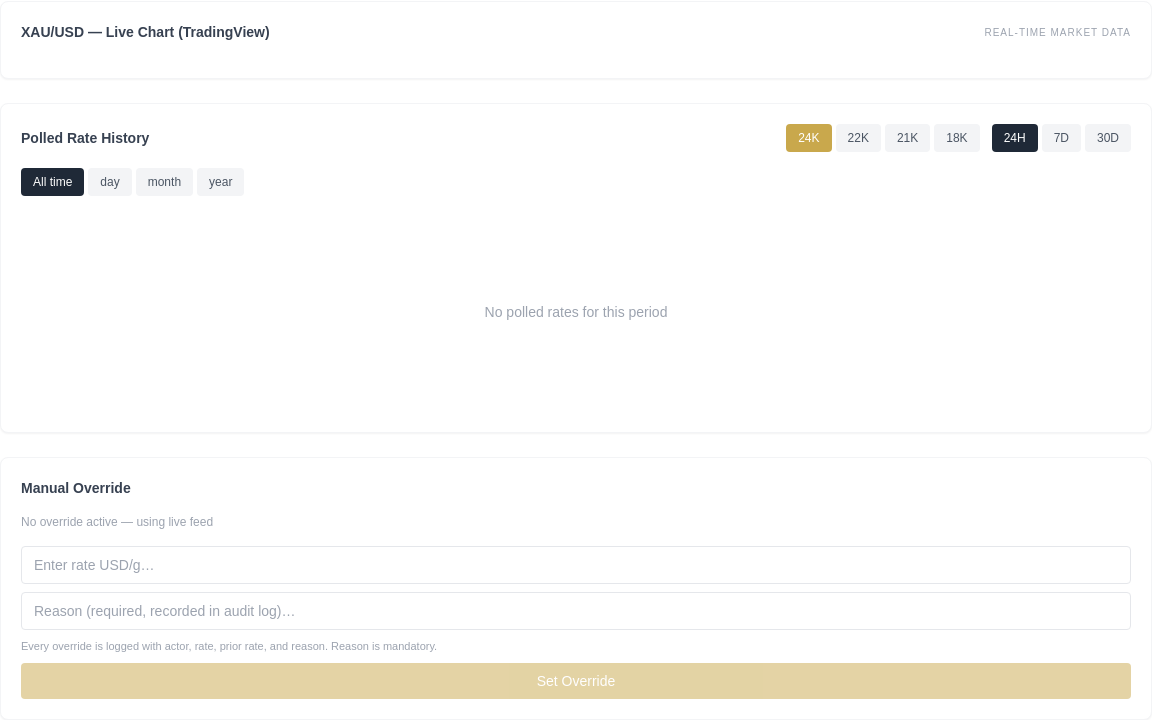
gold price — the override still does what it did › needs a rate and a reason of three characters before it can be set
The image size is (1152, 720).
(page scrolled)
Type "150.5" into the number field named "Override rate (USD/g)" at (576, 565), box [21,546,1131,584]
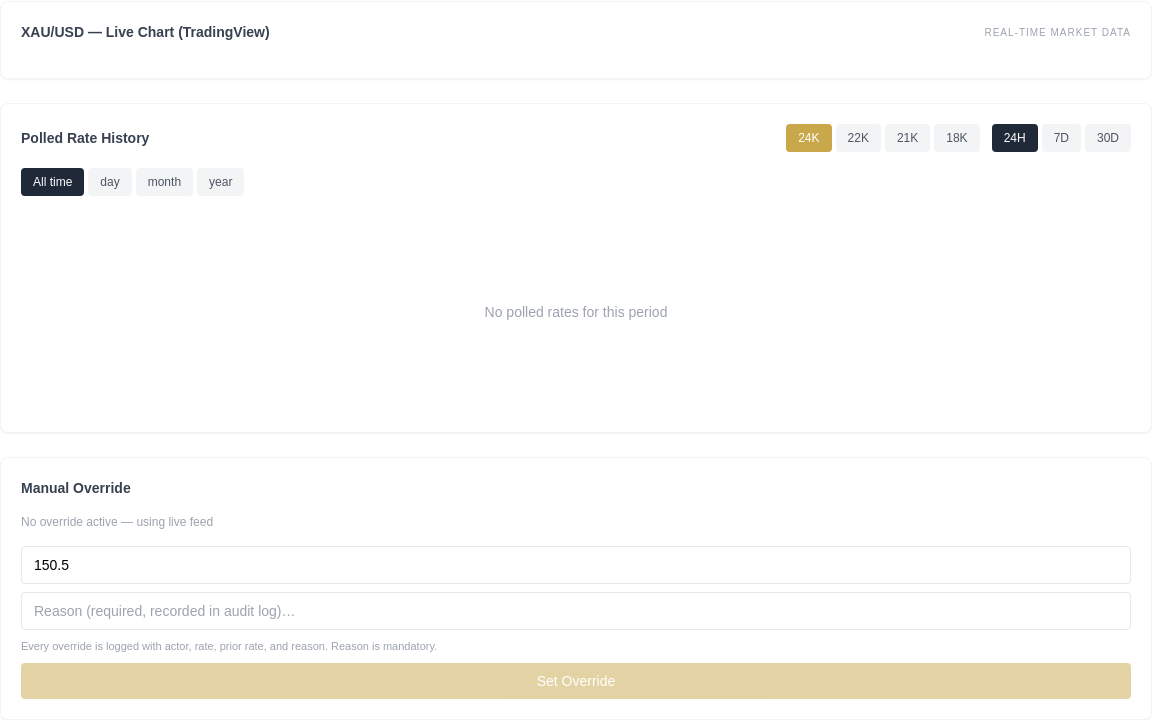
Type "ab" into the field named "Reason for the override" at (576, 611), box [21,592,1131,630]
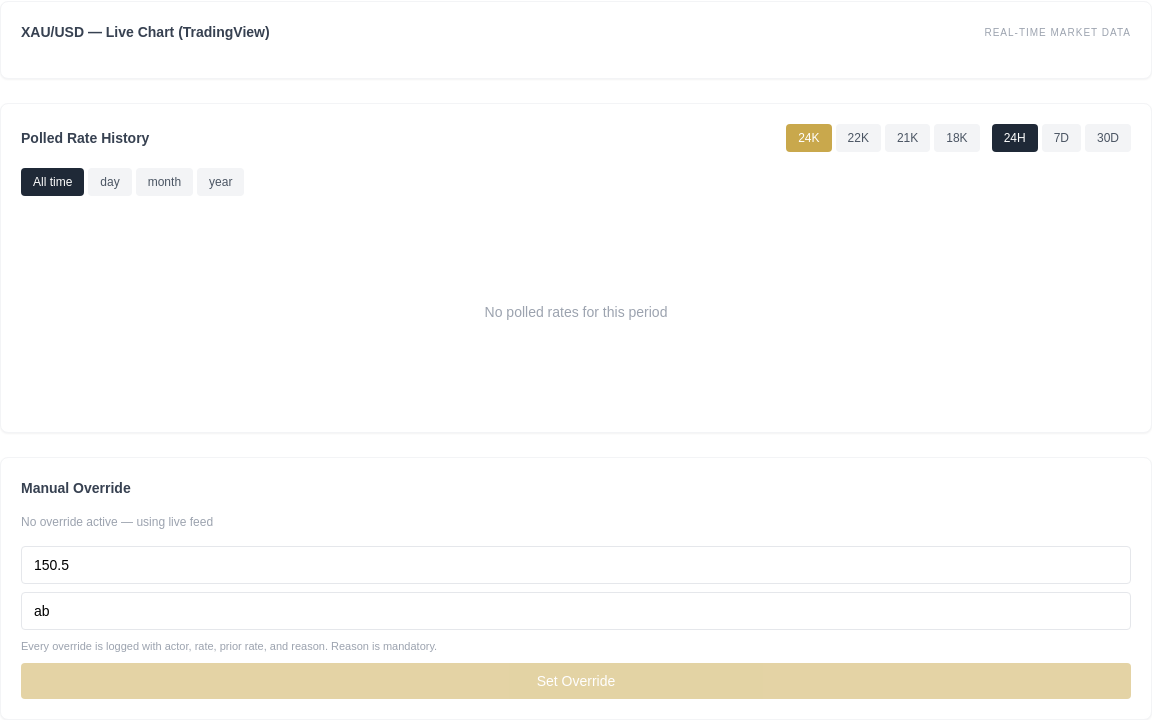
Check: the button "Set Override" is disabled, box [21,662,1131,698]
Replace the text in the field named "Reason for the override" with "abc" at (576, 611), box [21,592,1131,630]
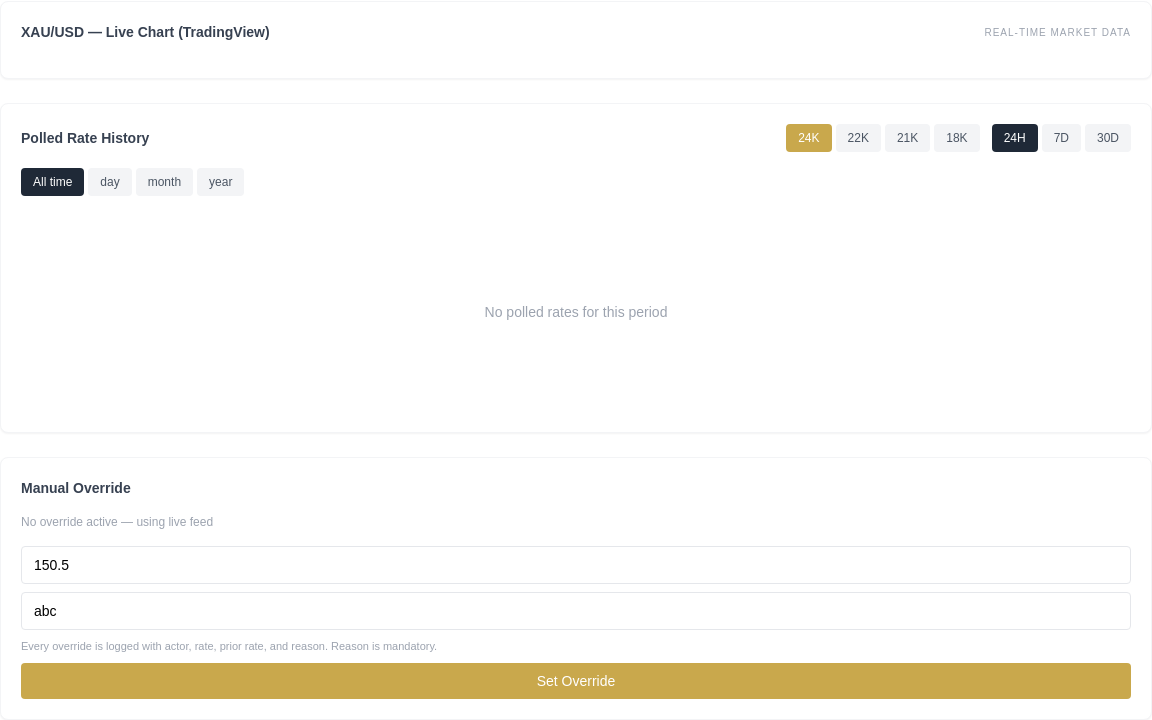
Check: the button "Set Override" is enabled, box [21,662,1131,698]
